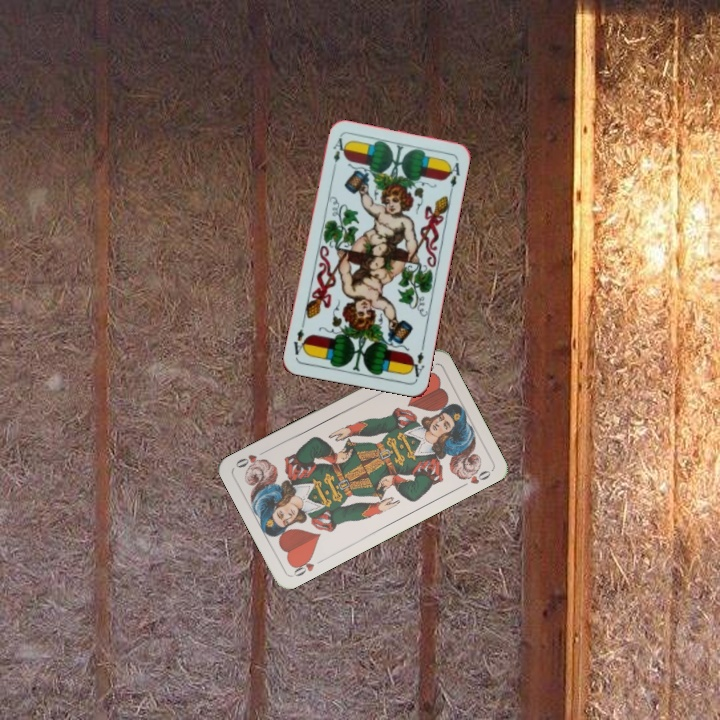EA: (406, 341, 427, 381), (329, 133, 345, 165)
HO: (288, 552, 317, 579)
